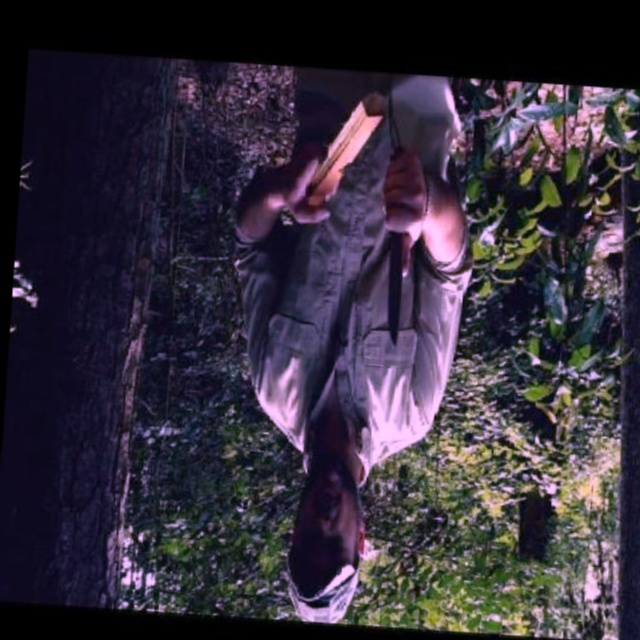Sharp-Object: (377, 142, 411, 346)
